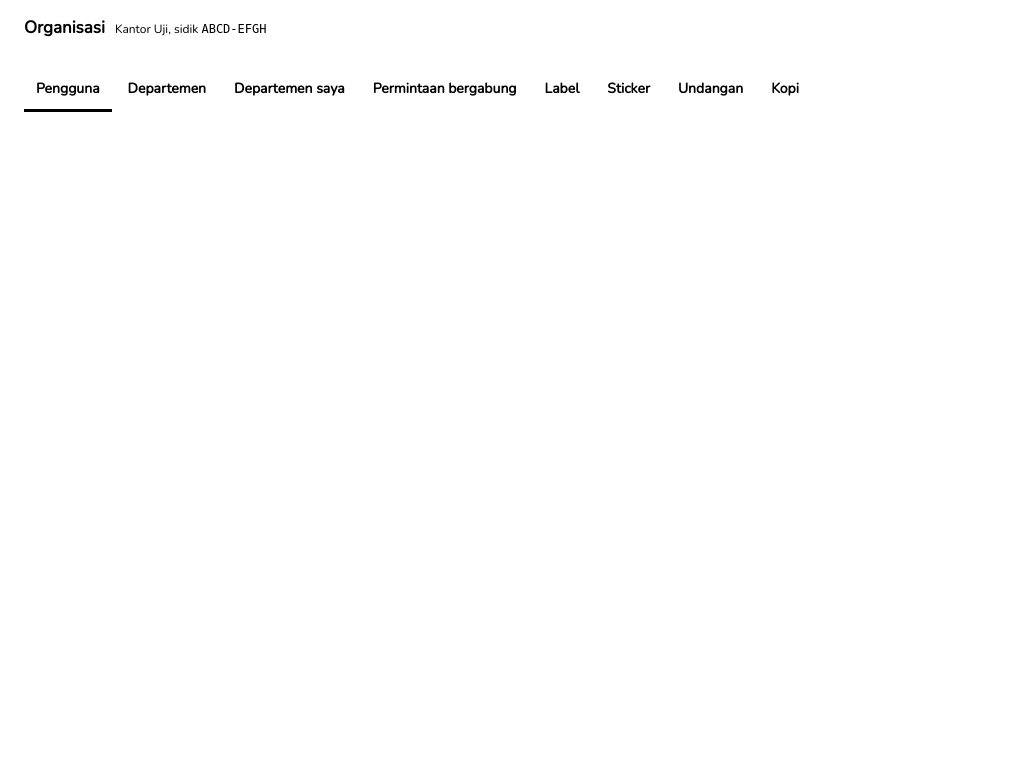
Test: Departemen: daftar › menampilkan nama, jumlah orang, admin, channel, dan departemen sendiri
The width and height of the screenshot is (1024, 768).
Click the button "Departemen": (167, 90) x1=116 y1=68 x2=218 y2=112
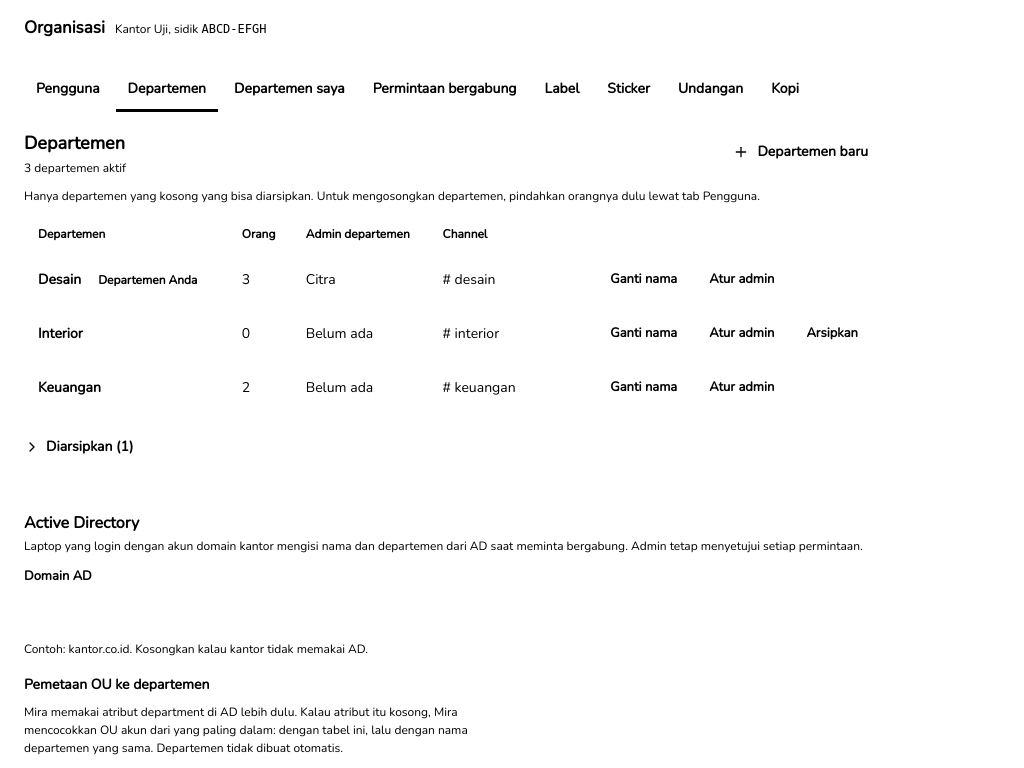
Now the table named "Departemen aktif" is shown, box x1=24 y1=214 x2=884 y2=414
Now the number of rows is 4, box x1=24 y1=214 x2=884 y2=252; x1=24 y1=252 x2=884 y2=306; x1=24 y1=306 x2=884 y2=360; x1=24 y1=360 x2=884 y2=414
Now the text "Desain" is shown, box x1=38 y1=269 x2=81 y2=290
